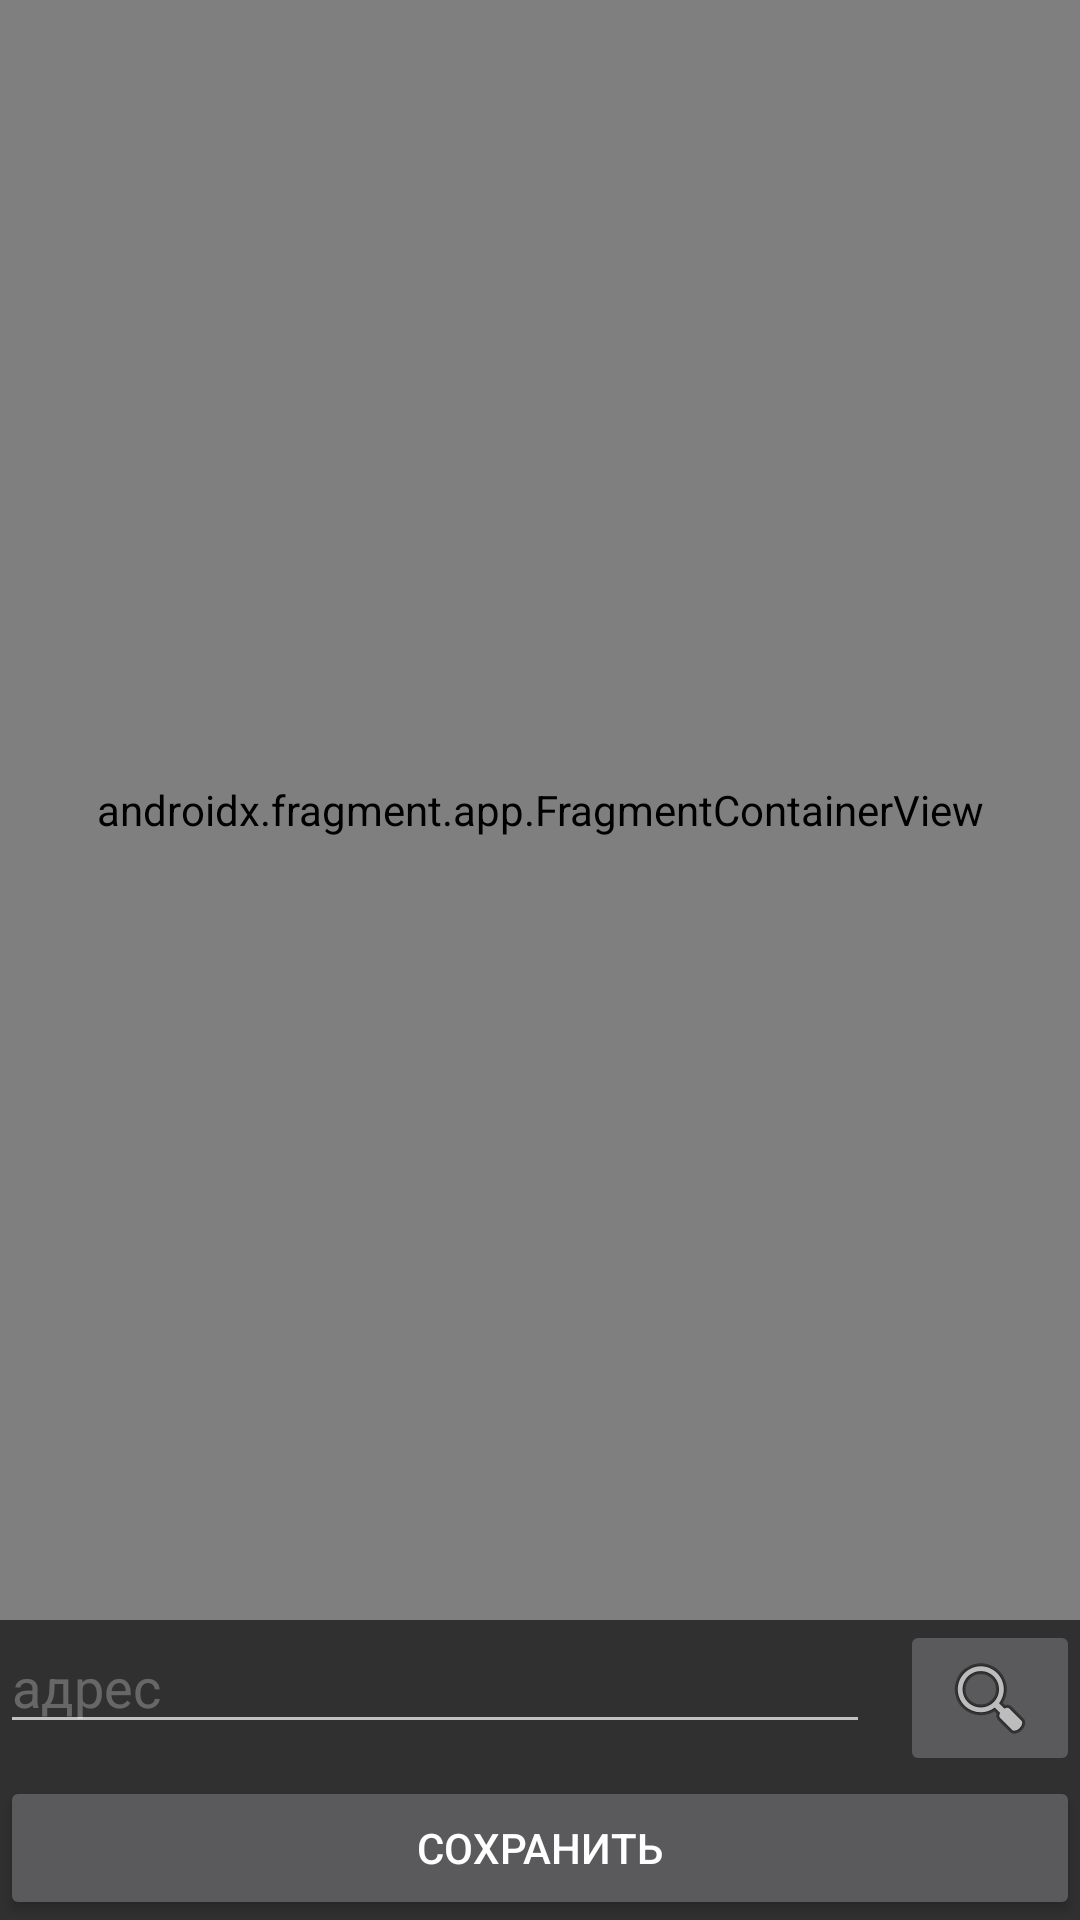

Screen size 1080*1920. Icon name, then its box in pixels as [left=x1, top=y1, right=x2, bottom=y2]:
search: [left=912, top=1638, right=1068, bottom=1758]
